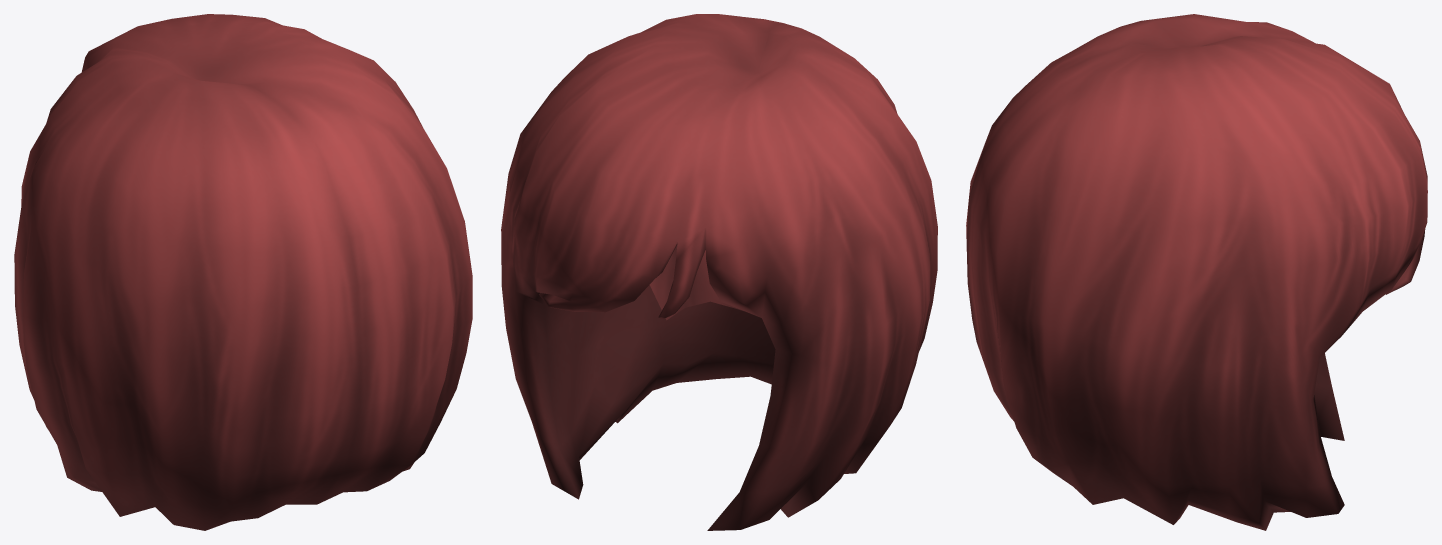
Rendered from Hair_Female_004_textured_red.glb.
3 views of the same model, side by side, from view 1: azimuth 30°, elevation 25°; view 2: azimuth 150°, elevation 25°; view 3: azimuth 270°, elevation 25° (orthographic). The views are drawn at different scales.
Visible parts, largest first — view 1: Hair_Female_004; view 2: Hair_Female_004; view 3: Hair_Female_004.
Part boxes in pixels (x1=…): Hair_Female_004: x1=14, y1=14, x2=472, y2=530; Hair_Female_004: x1=501, y1=14, x2=937, y2=530; Hair_Female_004: x1=966, y1=14, x2=1427, y2=530.
Size of the model in its own units: 0.214 by 0.2309 by 0.223.
Materials: 1 (1 with a texture image).
